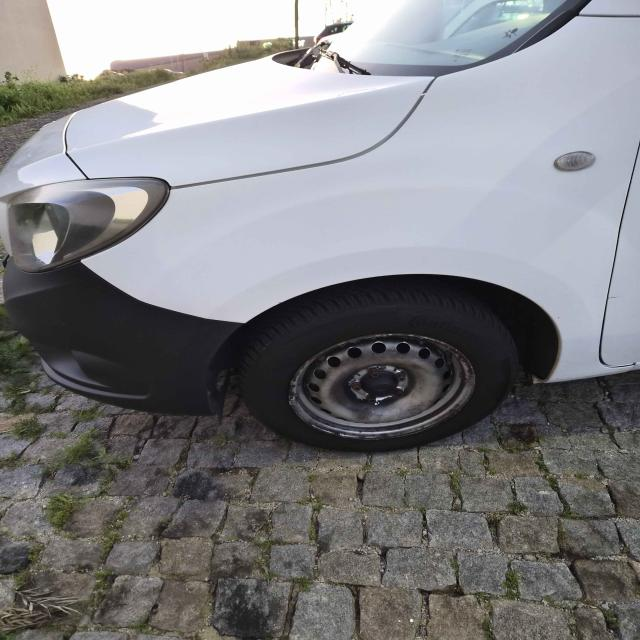jante: (288, 332, 476, 440)
parafuso: (350, 380, 361, 392), (368, 368, 380, 378), (394, 372, 406, 382), (393, 388, 404, 398), (366, 394, 377, 404)
roda: (236, 282, 520, 453)
